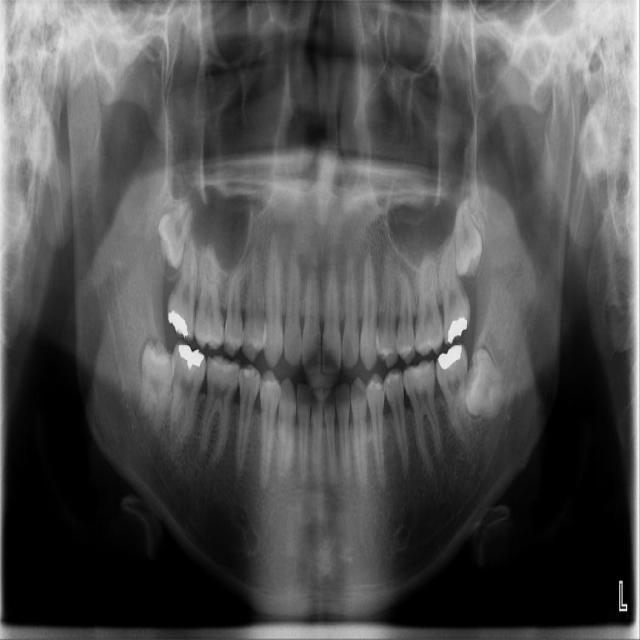3M ESPE Implant: (148, 194, 197, 270)
52: (153, 289, 208, 345), (428, 341, 478, 390), (168, 339, 210, 389), (443, 290, 471, 348)
73: (602, 578, 610, 592)
BioHorizons Implant: (435, 230, 474, 348)
BioLife Implant: (455, 196, 483, 277)
Biomet 3i Implant: (458, 346, 515, 423)
Blue Sky Bio Implant: (434, 342, 475, 446)
Caries: (165, 233, 201, 345)
Implant: (166, 339, 208, 453)
Keystone Dental Implant: (129, 338, 180, 434)
